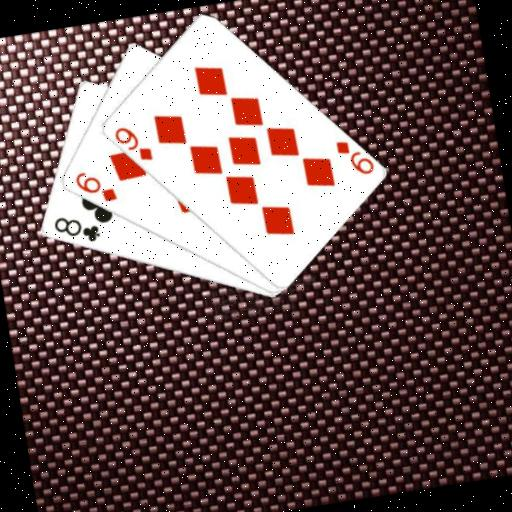6D: (70, 164, 119, 209)
8C: (48, 208, 103, 249)
9D: (109, 119, 154, 167), (331, 133, 376, 181)
